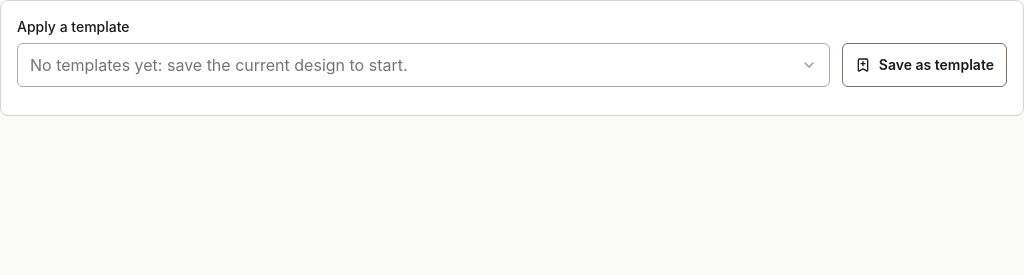
Scenario: TemplateBar › says why a save was refused
Click the button "Save as template": (924, 65) top-left (842, 43), bottom-right (1007, 87)
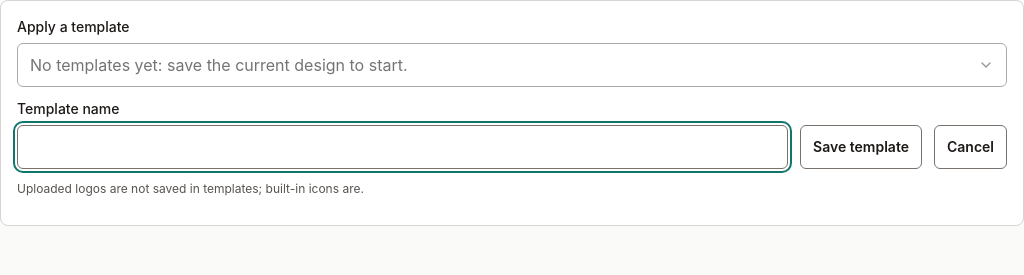
Click the button "Save template": (861, 147) top-left (800, 125), bottom-right (922, 169)
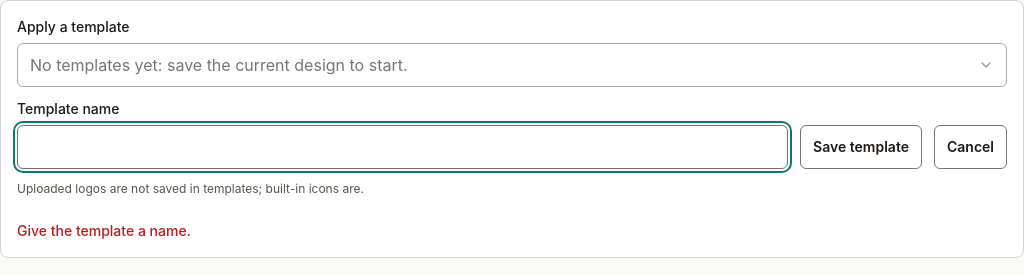
Expected: the text "Give the template a name." is shown, top-left (17, 222), bottom-right (191, 239)
In the field labelled "Template name": (403, 147) top-left (17, 125), bottom-right (788, 169), type "Café"
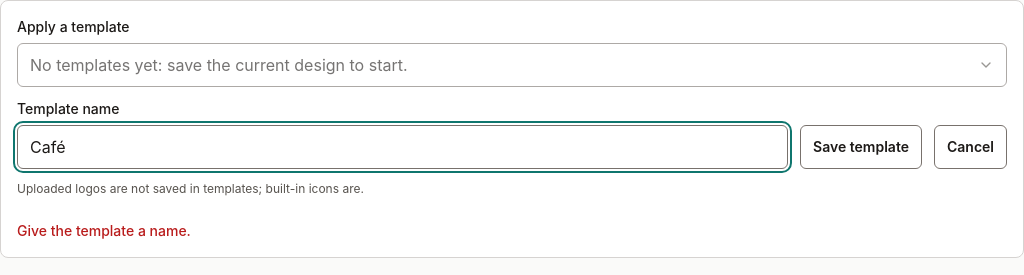
Click the button "Save template": (861, 147) top-left (800, 125), bottom-right (922, 169)
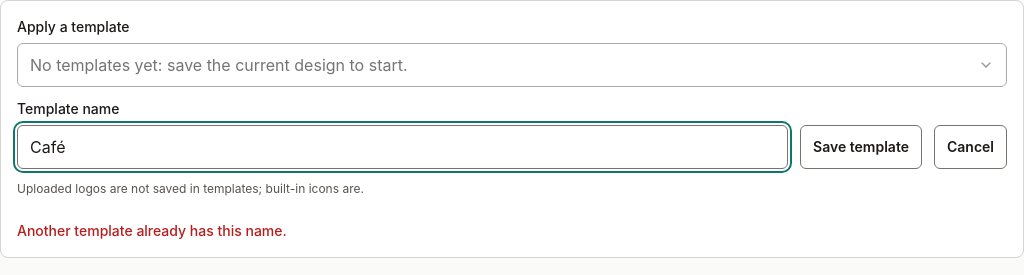
Expected: the text "Another template already has this name." is shown, top-left (17, 222), bottom-right (287, 239)
